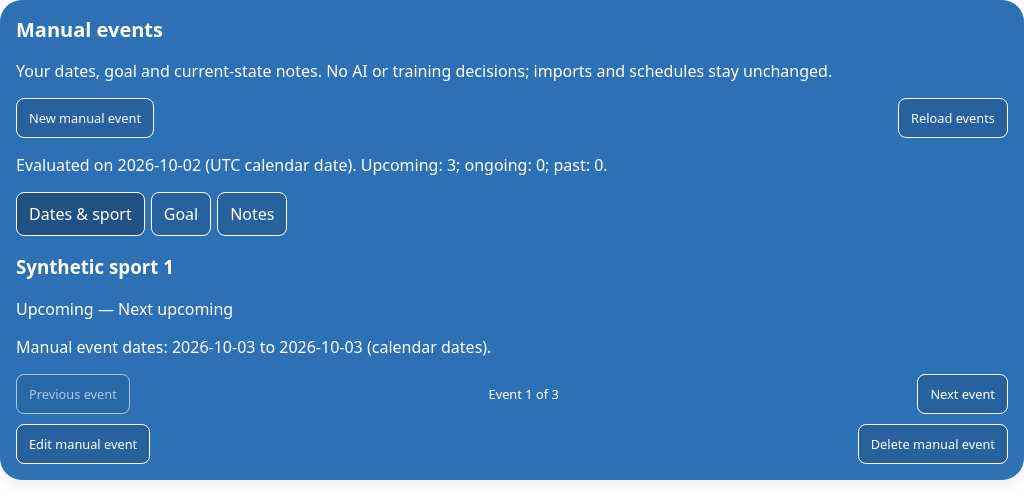
Test case: private manual event tile › tie-breaks same-date cards using end date then canonical id
The image size is (1024, 500).
Expected: the heading "Synthetic sport 1" is shown, x1=16 y1=254 x2=174 y2=279
Click the button "Next event": (963, 394) x1=917 y1=374 x2=1008 y2=414
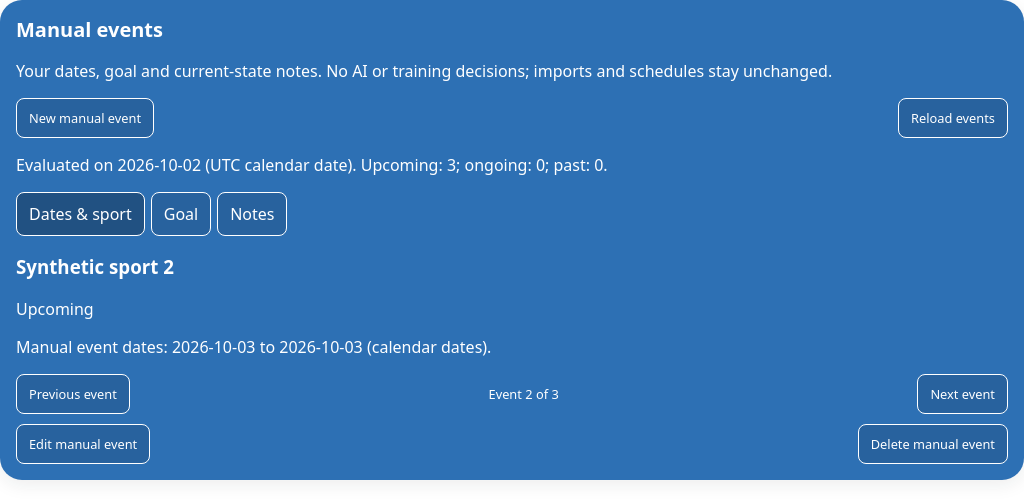
Now the heading "Synthetic sport 2" is shown, box x1=16 y1=254 x2=174 y2=279
Click the button "Next event": (963, 394) x1=917 y1=374 x2=1008 y2=414
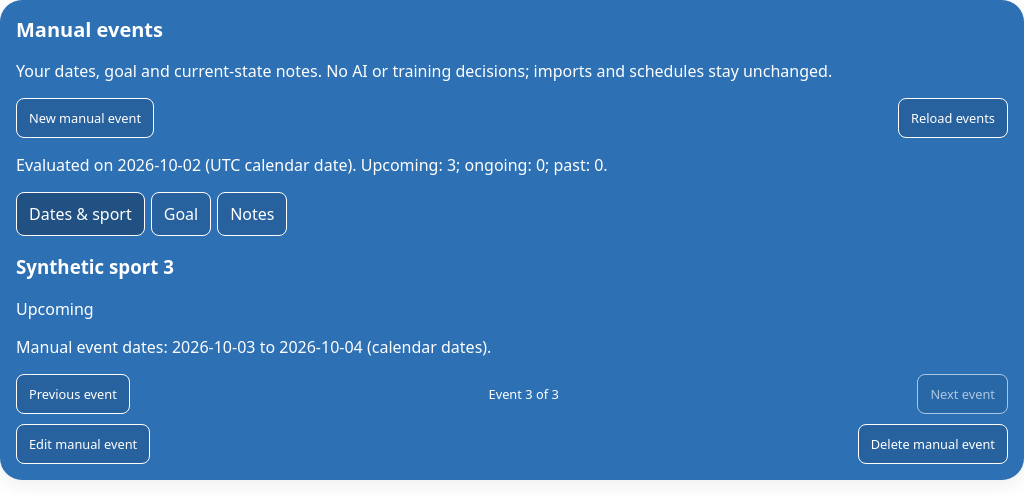
Now the heading "Synthetic sport 3" is shown, box x1=16 y1=254 x2=174 y2=279
